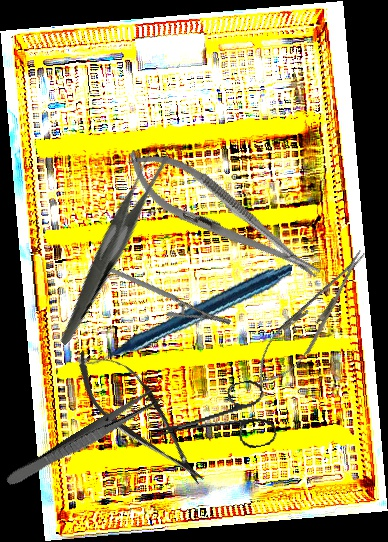Dressing Forceps: (9, 144, 212, 346), (4, 384, 165, 492)
Handpiece: (79, 228, 293, 399)
Iris Scissors: (146, 377, 279, 468)
Micro Scissor: (61, 334, 221, 500)
Needle Holder: (112, 133, 334, 299), (242, 239, 380, 399), (107, 235, 233, 356)
